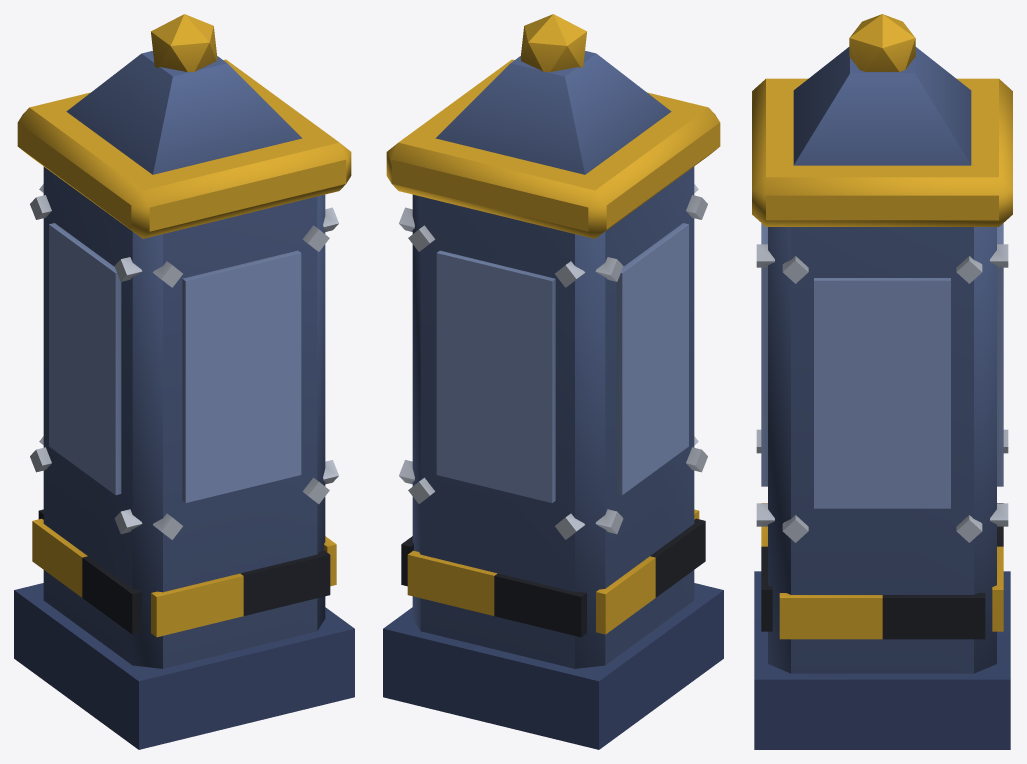
The model's file is wall_post_2.glb.
3 views of the same model, side by side, from view 1: azimuth 30°, elevation 25°; view 2: azimuth 150°, elevation 25°; view 3: azimuth 270°, elevation 25° (orthographic). The views are drawn at different scales.
Parts seen in each view (by area): view 1: body; view 2: body; view 3: body.
Boxes of the visible parts, x1,y1,x2,y2 form: body: (14,14,354,749); body: (383,14,723,749); body: (752,14,1012,749).
Bounding box in the file's own units: 1.14 × 3.29 × 1.14.
